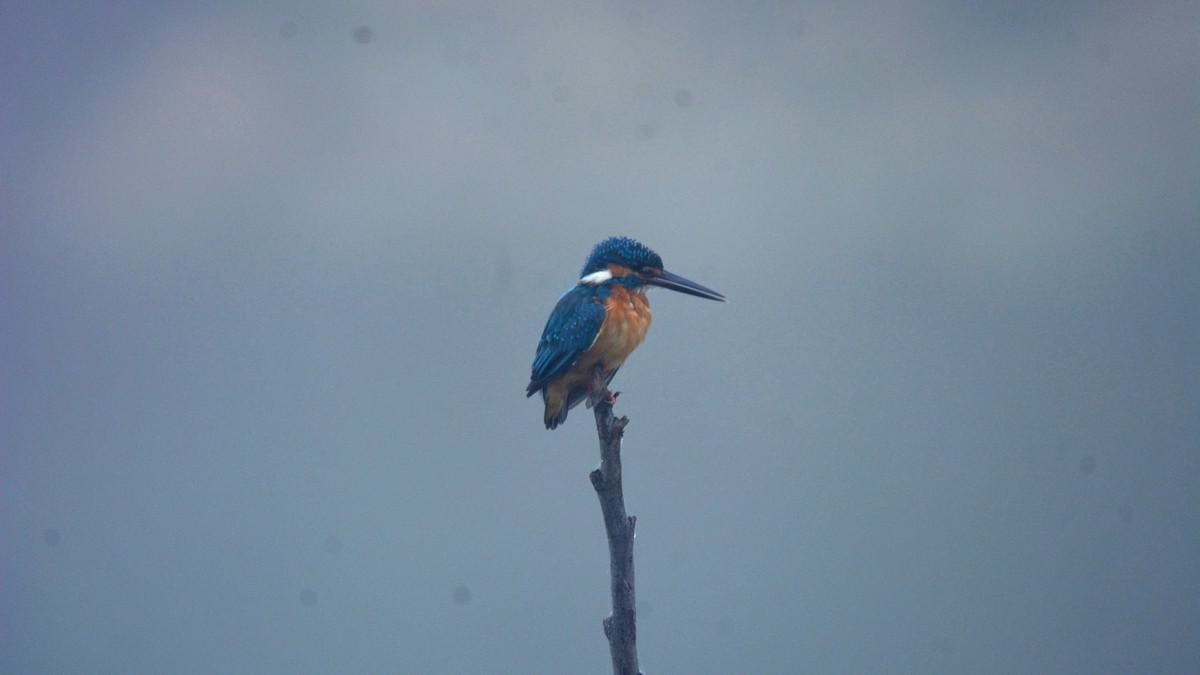kingfisher: (527, 225, 741, 386)
